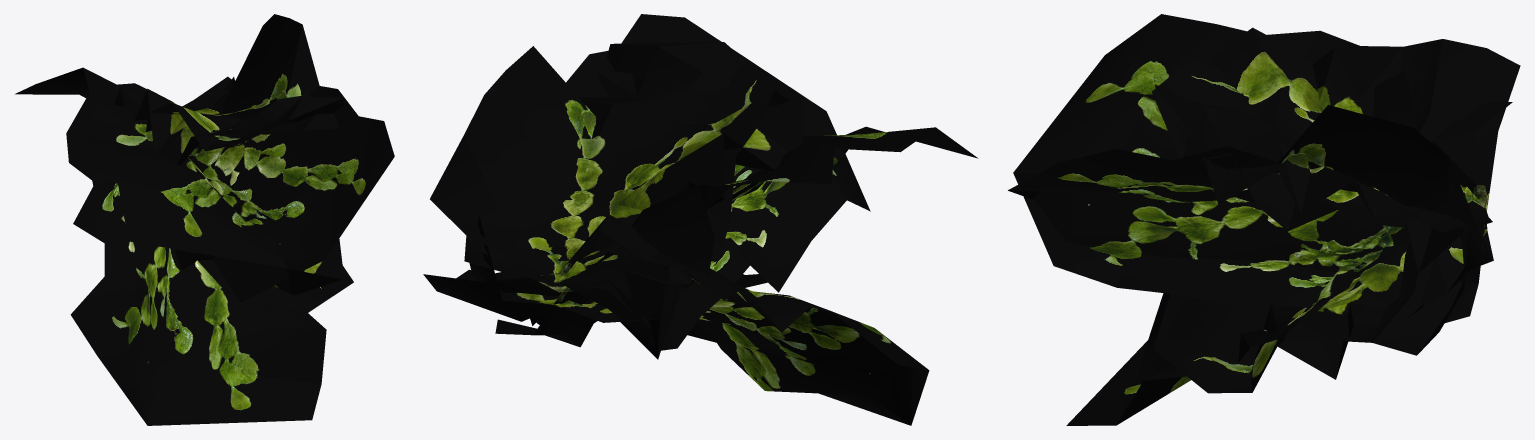
3 views of the same model, side by side, from view 1: azimuth 30°, elevation 25°; view 2: azimuth 150°, elevation 25°; view 3: azimuth 270°, elevation 25° (orthographic). The views are drawn at different scales.
Parts seen in each view (by area): view 1: RS15v1; view 2: RS15v1; view 3: RS15v1.
Part boxes in pixels (x1,y1,x2,y2): RS15v1: (15, 14, 394, 425); RS15v1: (423, 14, 978, 425); RS15v1: (1008, 14, 1520, 425).
Bounding box in the file's own units: 1.75 × 1.64 × 2.01.
2 materials, 2 textured.
